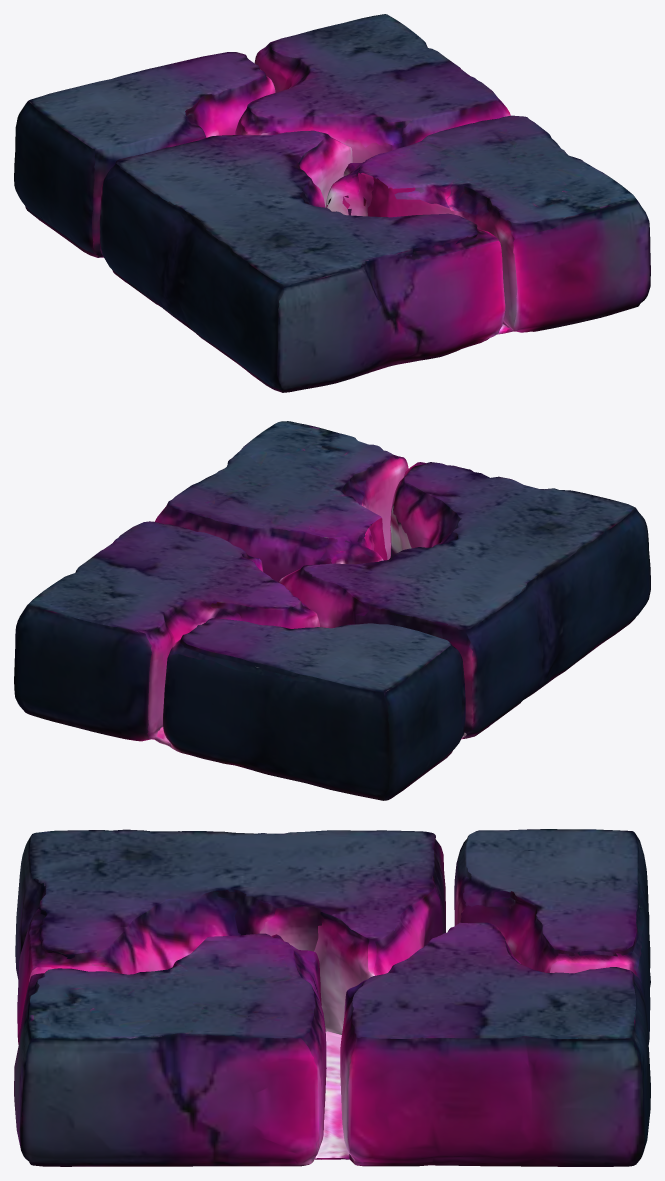
Rendered from approach-stone-6-generated-2026-05-17T18-25-16-260Z.low.glb.
3 views of the same model, one above another, from view 1: azimuth 30°, elevation 25°; view 2: azimuth 150°, elevation 25°; view 3: azimuth 270°, elevation 25° (orthographic). The views are drawn at different scales.
Visible parts, largest first — view 1: temp_mesh.ply; view 2: temp_mesh.ply; view 3: temp_mesh.ply.
Part boxes in pixels (box(x1,y1,x2,y2)): temp_mesh.ply: box(14, 14, 650, 392); temp_mesh.ply: box(14, 421, 650, 800); temp_mesh.ply: box(14, 829, 650, 1166).
Bounding box in the file's own units: 1.64 × 0.4518 × 1.97.
1 material, 1 textured.
